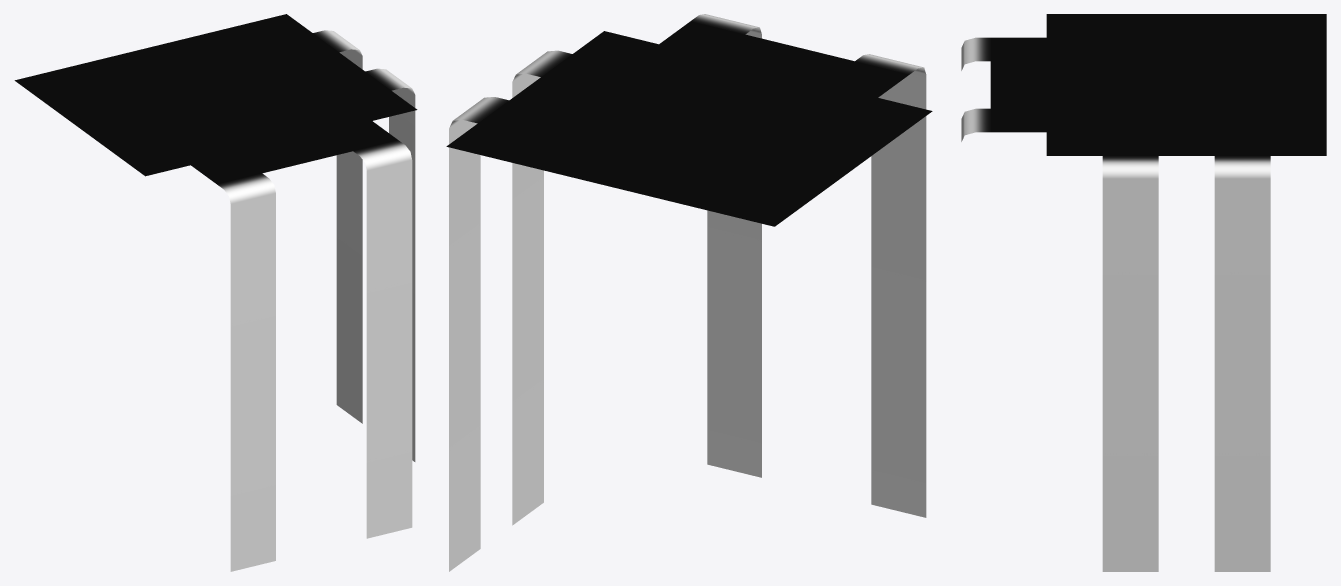
File: healingRoomWater_MESH.fbx
3 renders of one model, left to right at view 1: azimuth 30°, elevation 25°; view 2: azimuth 150°, elevation 25°; view 3: azimuth 270°, elevation 25°, orthographic. The views are drawn at different scales.
Visible parts, largest first — view 1: room18; view 2: room18; view 3: room18.
Part boxes in pixels (<box>): room18: <box>14,14,417,571</box>; room18: <box>446,14,932,571</box>; room18: <box>961,14,1326,571</box>.
Bounding box in the file's own units: 6.52 × 7.95 × 6.52.
